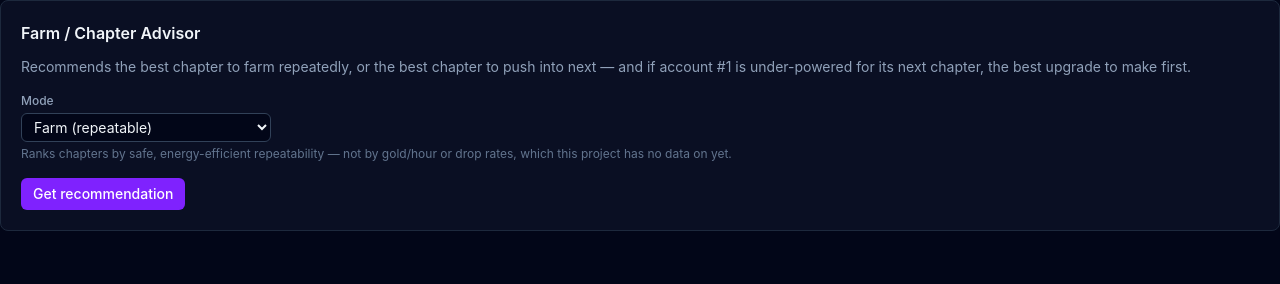
FarmAdvisorPage › shows the API error message when the chapter catalog is empty
Click the button "Get recommendation" at [103, 194], box [21,178,185,210]
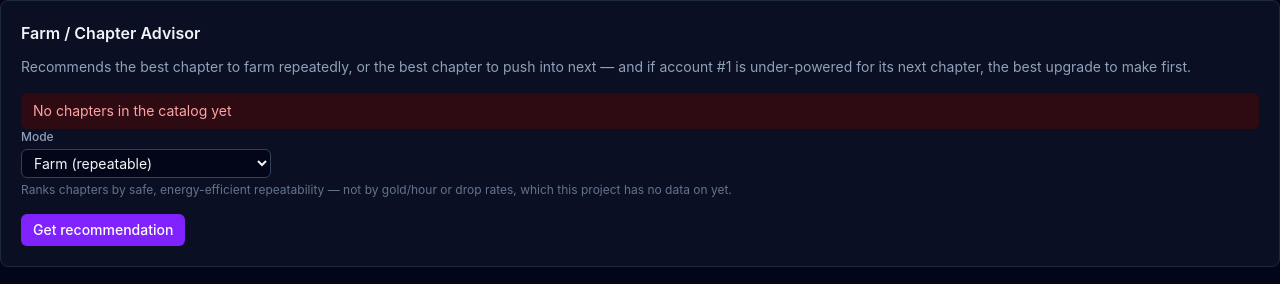
Result: the text "No chapters in the catalog yet" is shown at [21,93,1259,129]
